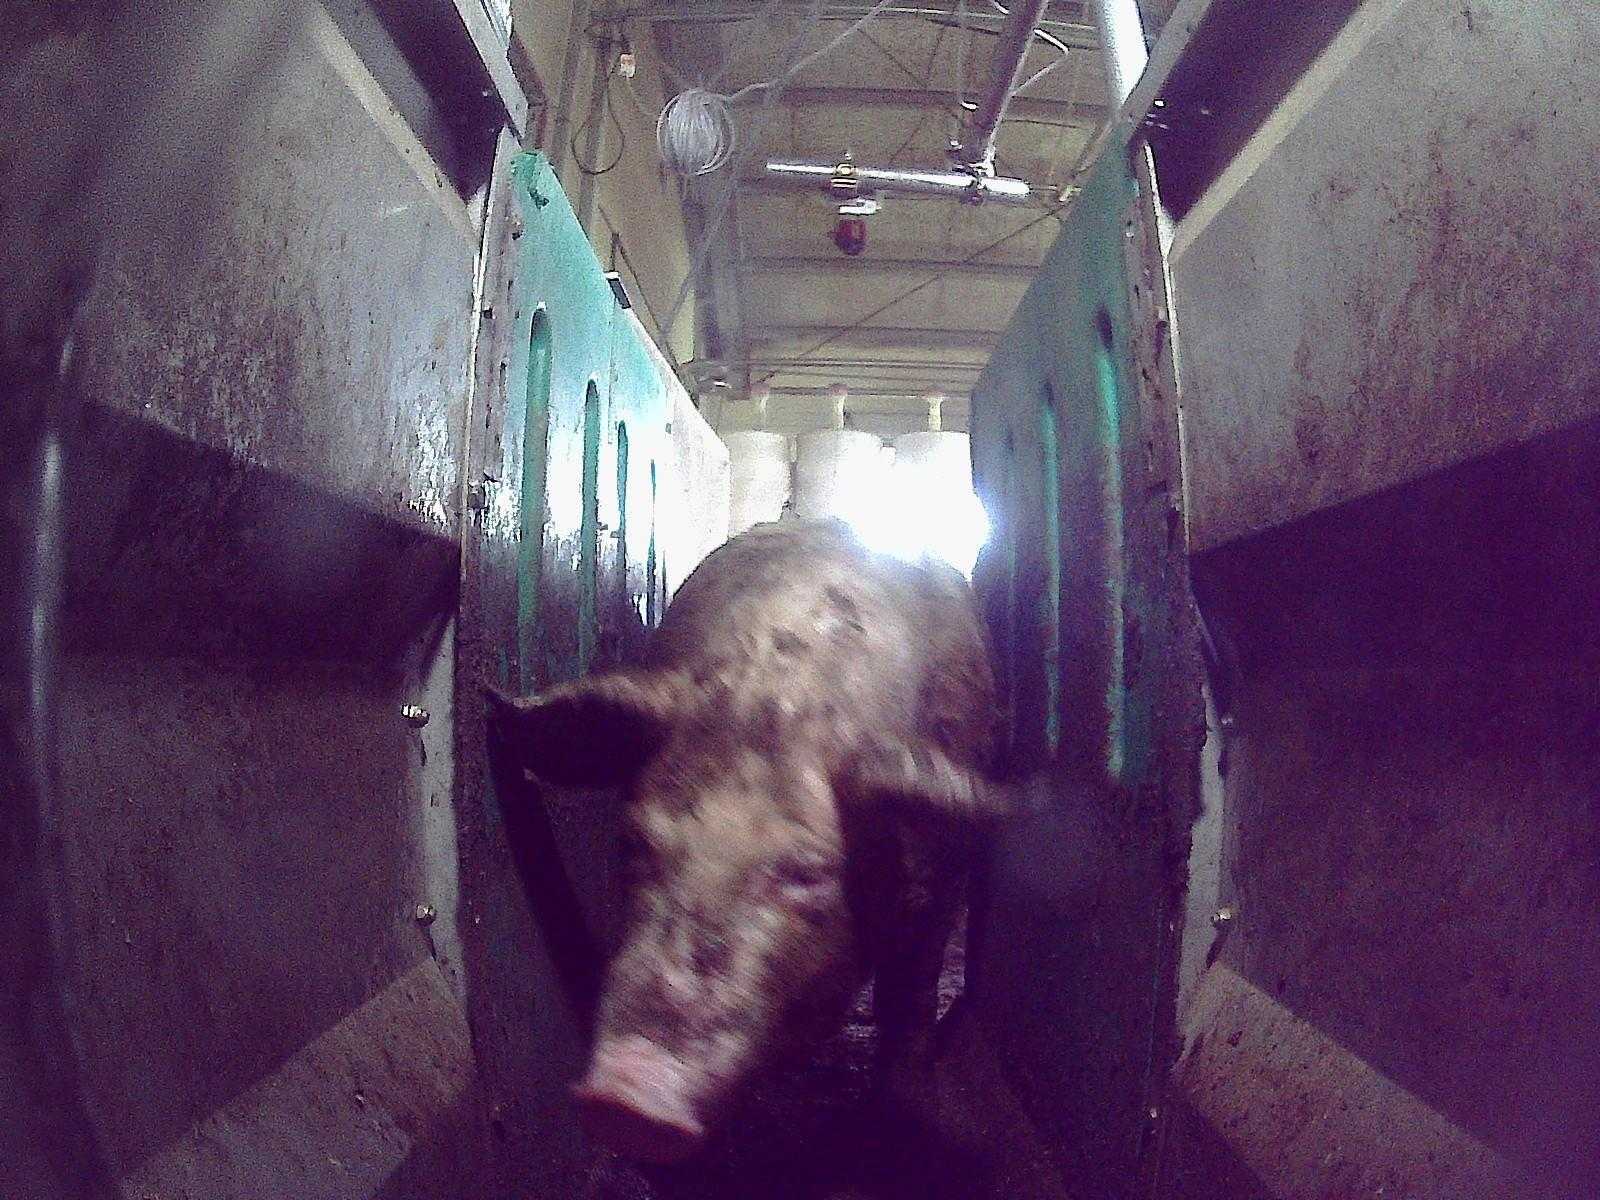Face: (573, 680, 855, 1166)
